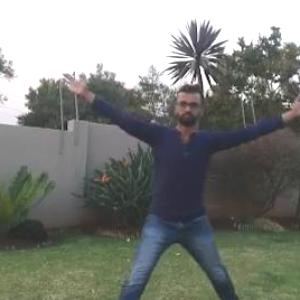takeoff: (63, 69, 299, 299)
